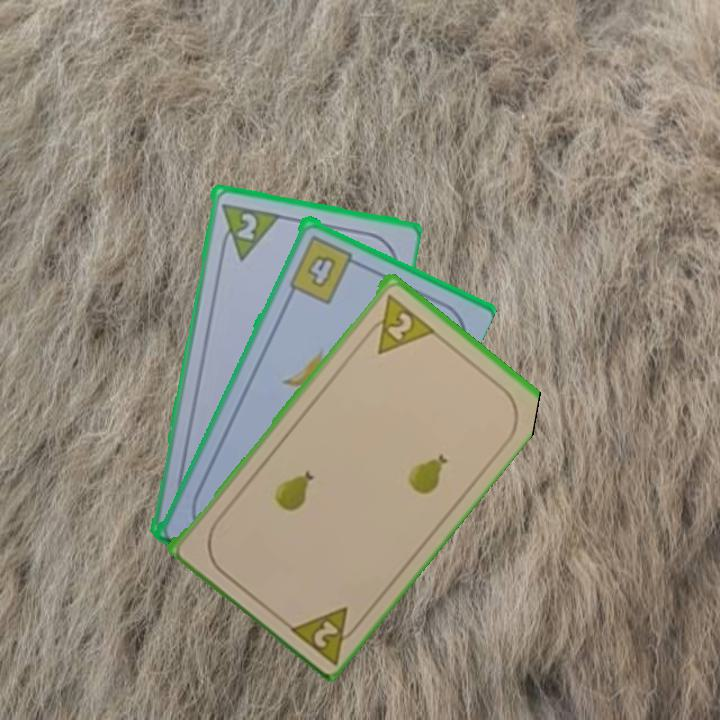2p: (283, 601, 367, 666), (360, 289, 436, 357), (215, 199, 281, 263)
4b: (285, 231, 362, 306)
